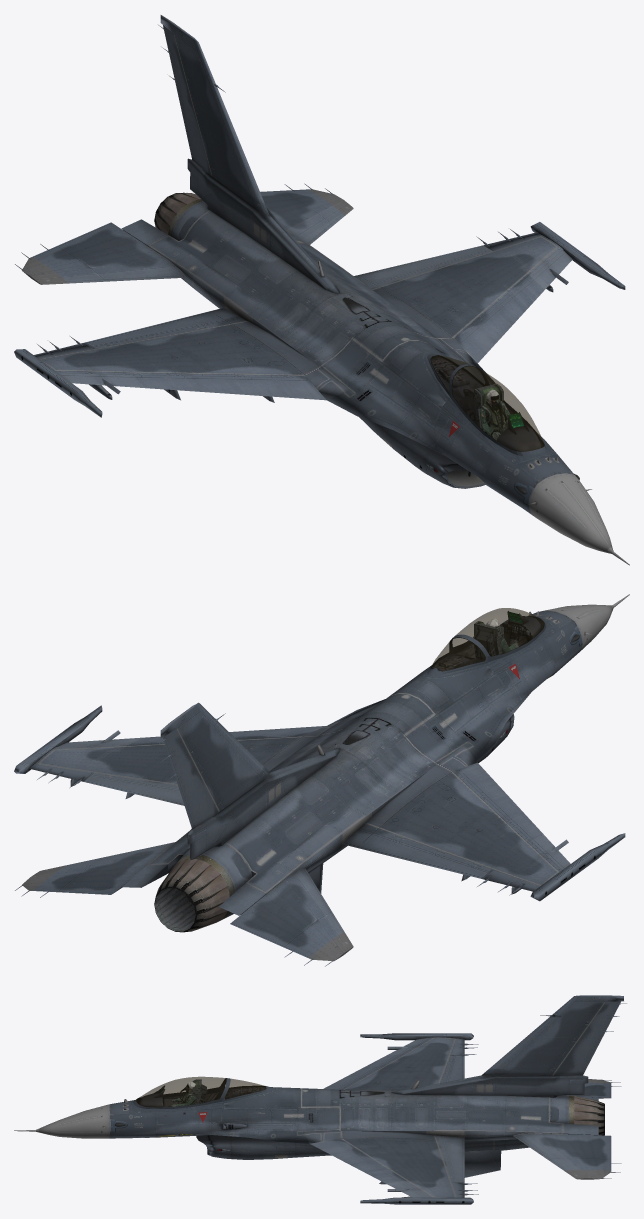
The model's file is F-2.dat.obj.
3 views of the same model, one above another, from view 1: azimuth 30°, elevation 25°; view 2: azimuth 150°, elevation 25°; view 3: azimuth 270°, elevation 25° (orthographic). The views are drawn at different scales.
Parts seen in each view (by area): view 1: F-2_LOD0, F-2_ElevatorR01, F-2_Glass01, F-2_VoletR01, F-2_VoletL01, F-2_ElevatorL01, F-2_AileronR01, F-2_AileronL01, F-2_Canopy01, F-2_RudderL01, F-2_Pilot, F-2_EngineL01; view 2: F-2_LOD0, F-2_ElevatorR01, F-2_EngineL01, F-2_ElevatorL01, F-2_Glass01, F-2_AileronR01, F-2_VoletR01, F-2_RudderL01, F-2_AileronL01, F-2_Canopy01, F-2_VoletL01, F-2_Eject_Seat (+2 smaller); view 3: F-2_LOD0, F-2_ElevatorL01, F-2_Glass01, F-2_RudderL01, F-2_VoletL01, F-2_AileronL01, F-2_Canopy01, F-2_EngineL01, F-2_VoletR01, F-2_ElevatorR01, F-2_AileronR01, F-2_BrakeL01 (+1 smaller).
Boxes of the visible parts, x1,y1,x2,y2 form: F-2_LOD0: (14,15,629,565); F-2_ElevatorR01: (15,222,186,284); F-2_Glass01: (430,355,544,451); F-2_VoletR01: (58,373,326,400); F-2_VoletL01: (456,250,572,363); F-2_ElevatorL01: (260,183,353,244); F-2_AileronR01: (84,308,246,348); F-2_AileronL01: (354,245,493,289); F-2_Canopy01: (438,364,557,465); F-2_RudderL01: (158,25,210,175); F-2_Pilot: (479,389,510,440); F-2_EngineL01: (154,192,200,234); F-2_LOD0: (14,594,629,921); F-2_ElevatorR01: (230,868,353,966); F-2_EngineL01: (154,859,229,932); F-2_ElevatorL01: (15,842,175,897); F-2_Glass01: (431,608,544,671); F-2_AileronR01: (343,824,493,879); F-2_VoletR01: (457,762,570,869); F-2_RudderL01: (158,729,218,829); F-2_AileronL01: (83,772,184,805); F-2_Canopy01: (451,616,557,672); F-2_VoletL01: (58,726,325,746); F-2_Eject_Seat: (473,621,503,660); F-2_LOD0: (14,995,623,1204); F-2_ElevatorL01: (513,1133,621,1179); F-2_Glass01: (136,1076,265,1106); F-2_RudderL01: (553,1001,626,1075); F-2_VoletL01: (310,1139,428,1197); F-2_AileronL01: (434,1135,464,1182); F-2_Canopy01: (130,1078,234,1113); F-2_EngineL01: (574,1096,604,1135); F-2_VoletR01: (323,1038,428,1089); F-2_ElevatorR01: (570,1079,621,1098); F-2_AileronR01: (440,1055,464,1082); F-2_BrakeL01: (564,1123,598,1135).
Size of the model in its own units: 9.56 by 4.63 by 14.98.
